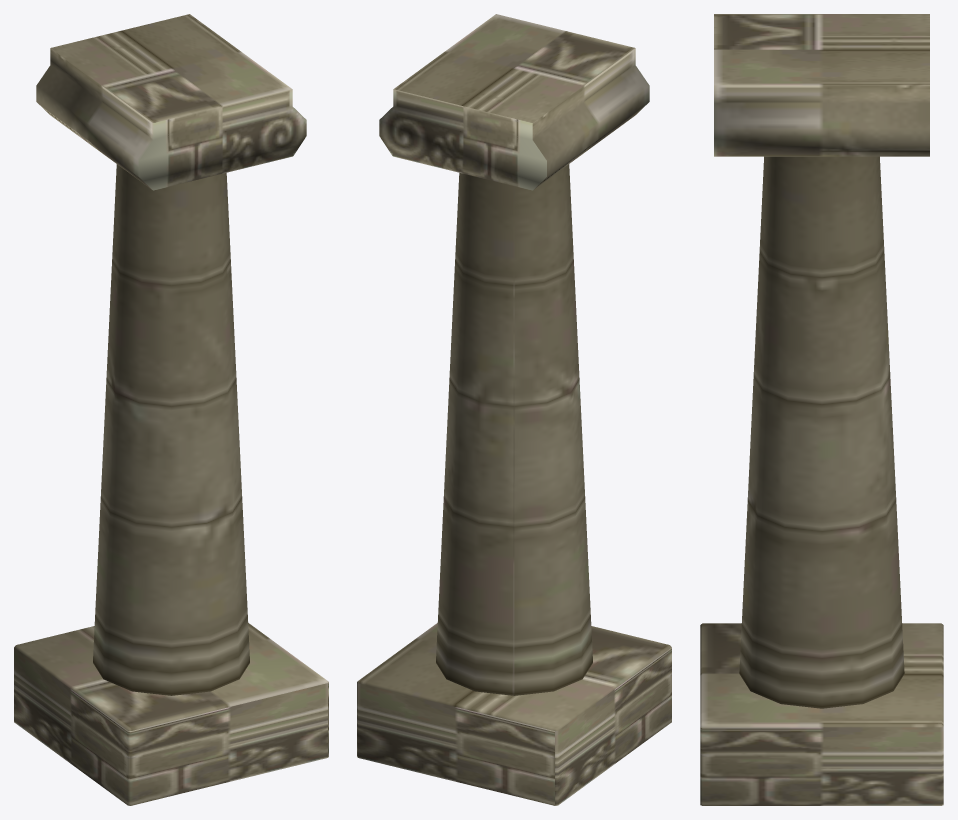
Rendered from int_oth_piller_b.dae.
3 renders of one model, left to right at view 1: azimuth 30°, elevation 25°; view 2: azimuth 150°, elevation 25°; view 3: azimuth 270°, elevation 25°, orthographic. The views are drawn at different scales.
Parts seen in each view (by area): view 1: int_oth_piller_b; view 2: int_oth_piller_b; view 3: int_oth_piller_b.
Part boxes in pixels (box(x1,y1,x2,y2)): int_oth_piller_b: box(14, 14, 328, 805); int_oth_piller_b: box(357, 14, 671, 805); int_oth_piller_b: box(700, 14, 943, 805).
Bounding box in the file's own units: 27.1 × 86.5 × 27.1.
Materials: 1 (1 with a texture image).
